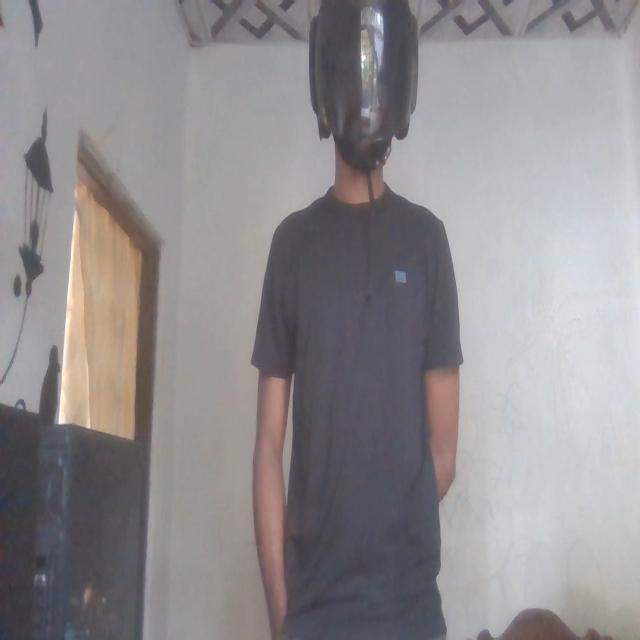Helmet_Wearer: (302, 0, 418, 199)
Person: (242, 0, 464, 640)
